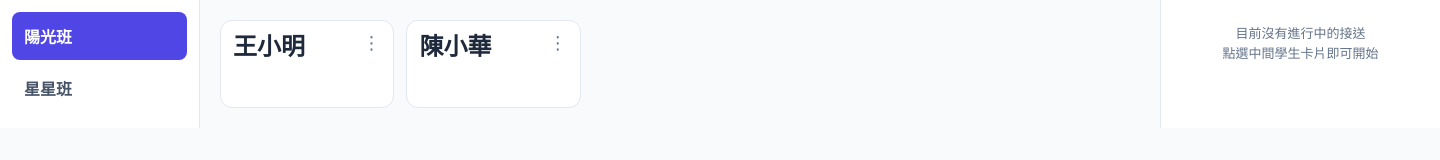
Test: DismissalPosBoard › 點擊中欄任一 unpicked 卡片後，右欄立即出現對應 staging 佇列卡（含倒數條）
Click the button "⋮ 王小明" at {"x": 307, "y": 64}, box [220, 20, 394, 108]
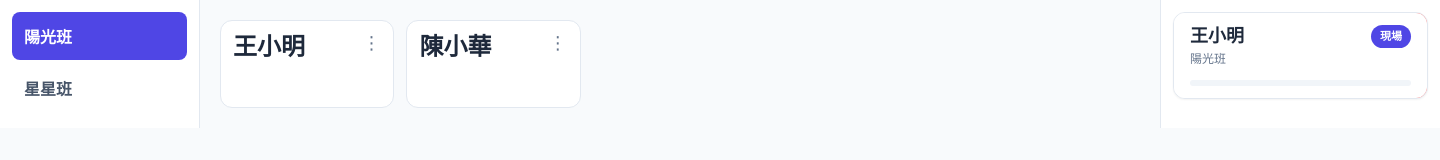
Check: the text "王小明" next to "現場" is shown, box [1190, 25, 1244, 46]
